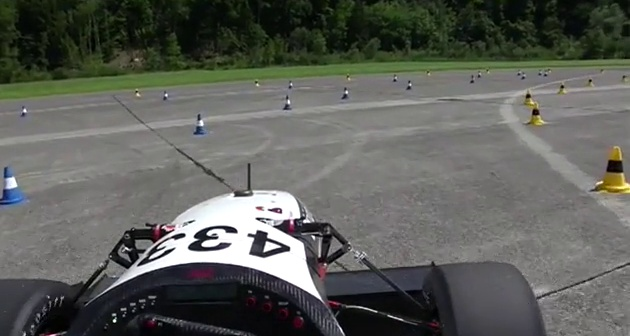Cone: (594, 145, 630, 192), (1, 162, 28, 204), (189, 111, 211, 136), (529, 102, 545, 126), (282, 94, 294, 111), (523, 88, 534, 106), (340, 85, 351, 99)
